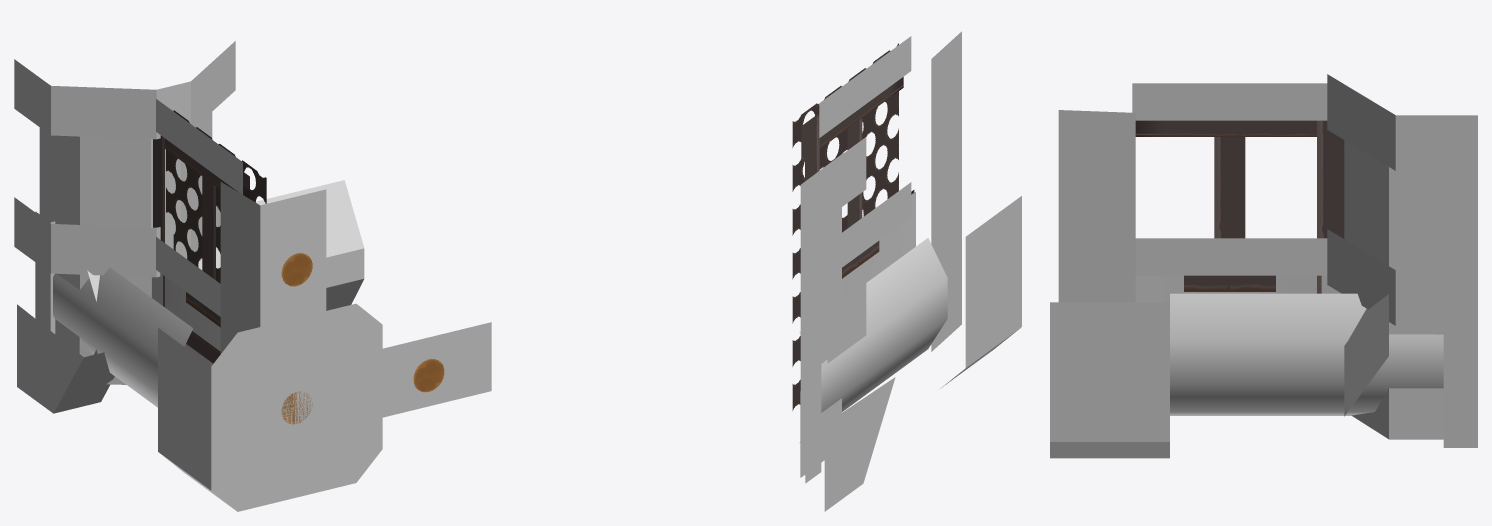
File: fence_high.glb
The picture shows the model from 3 angles, left to right: view 1: azimuth 30°, elevation 25°; view 2: azimuth 150°, elevation 25°; view 3: azimuth 270°, elevation 25°; orthographic projection. The views are drawn at different scales.
Parts seen in each view (by area): view 1: rsrc.world.tileset.clockworks.fence.fence_high-Variant[fence (×17); view 2: rsrc.world.tileset.clockworks.fence.fence_high-Variant[fence (×12); view 3: rsrc.world.tileset.clockworks.fence.fence_high-Variant[fence (×12).
Boxes of the visible parts, x1,y1,x2,y2 form: rsrc.world.tileset.clockworks.fence.fence_high-Variant[fence (×17): (14, 41, 491, 511); rsrc.world.tileset.clockworks.fence.fence_high-Variant[fence (×12): (792, 31, 1021, 511); rsrc.world.tileset.clockworks.fence.fence_high-Variant[fence (×12): (1050, 74, 1477, 458).
Bounding box in the file's own units: 2.2 × 2.38 × 2.5.
4 materials, 3 textured.
